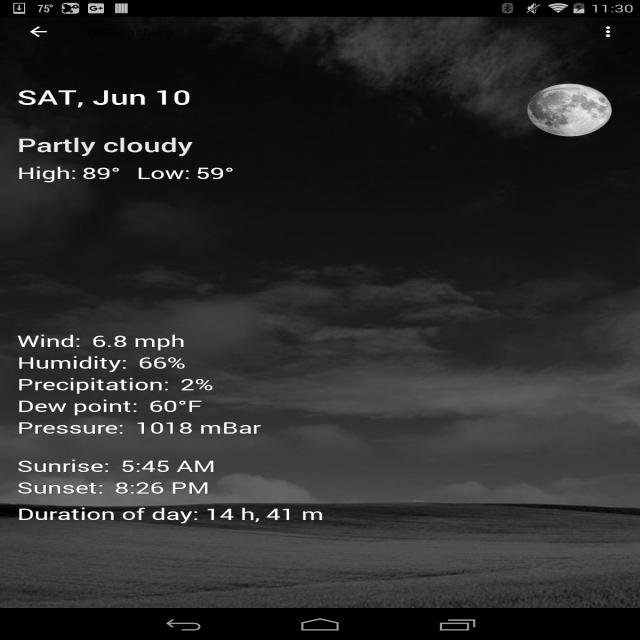ImageButton: (9, 16, 68, 46)
ImageView: (0, 17, 640, 608), (527, 83, 612, 137), (589, 16, 631, 46)
TextView: (17, 84, 575, 110), (17, 503, 324, 525), (17, 132, 193, 157), (17, 373, 170, 395), (17, 395, 138, 417), (135, 417, 261, 438), (17, 352, 128, 373), (17, 417, 125, 438), (120, 455, 216, 477), (92, 330, 185, 352), (17, 455, 110, 477), (114, 477, 210, 498), (17, 477, 104, 498), (17, 330, 81, 352), (17, 162, 77, 184), (137, 162, 190, 184), (149, 395, 202, 417), (85, 25, 174, 38), (138, 352, 186, 373), (82, 162, 121, 184), (196, 162, 234, 184), (180, 373, 213, 395)
